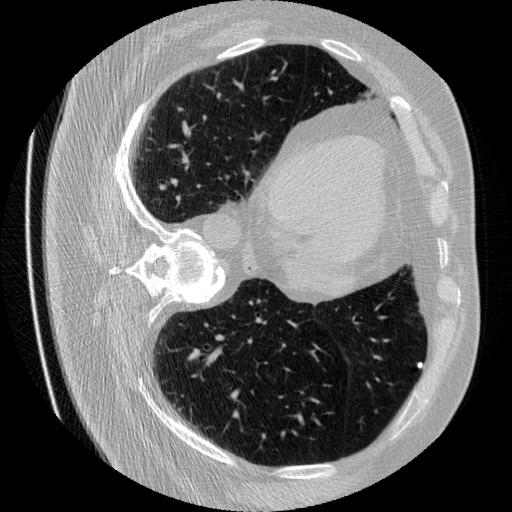nodule: (416, 362, 428, 374)
